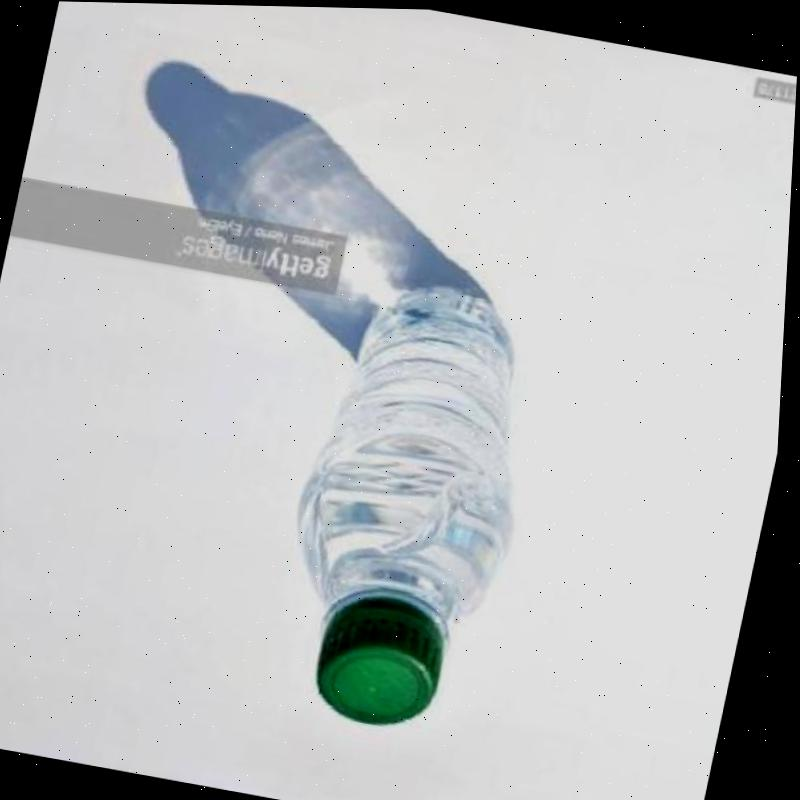botella: (261, 267, 572, 743)
